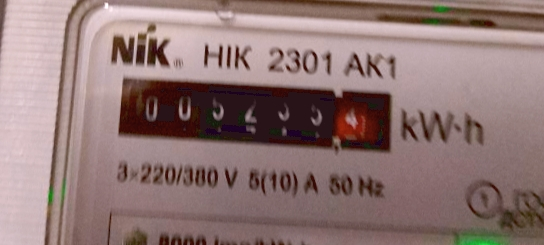0: (171, 89, 194, 124), (139, 91, 159, 123)
2: (237, 91, 261, 127)
3: (269, 91, 296, 126)
4: (338, 96, 363, 134)
5: (303, 93, 328, 130), (205, 90, 227, 124)
screen: (98, 59, 406, 168)
